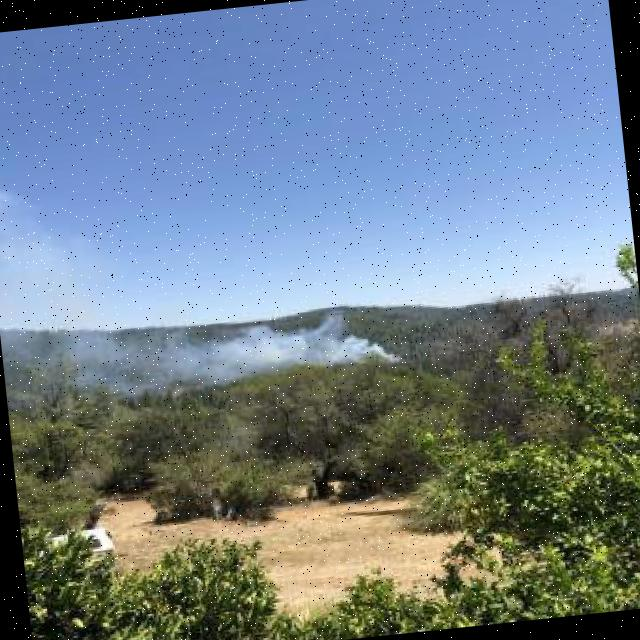fire: (27, 285, 428, 431)
